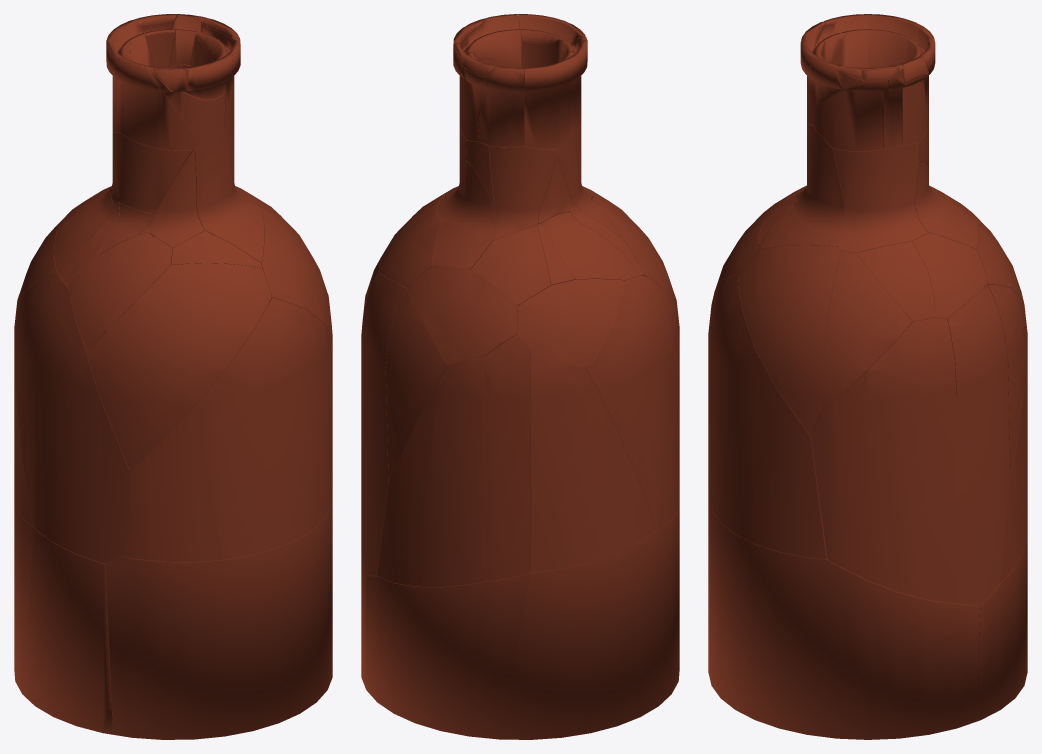
The model's file is 51_DestroyBottle.fbx.
The picture shows the model from 3 angles, left to right: view 1: azimuth 30°, elevation 25°; view 2: azimuth 150°, elevation 25°; view 3: azimuth 270°, elevation 25°; orthographic projection.
Parts seen in each view (by area): view 1: Bottle_cell.016, Bottle_cell.002, Bottle_cell.033, Bottle_cell.001, Bottle_cell.015, Bottle_cell.029, Bottle_cell.022, Bottle_cell.027, Bottle_cell, Bottle_cell.024, Bottle_cell.038, Bottle_cell.019 (+13 smaller); view 2: Bottle_cell.015, Bottle_cell.044, Bottle_cell.025, Bottle_cell.033, Bottle_cell.012, Bottle_cell.004, Bottle_cell.031, Bottle_cell.003, Bottle_cell.017, Bottle_cell.049, Bottle_cell.018, Bottle_cell.023 (+20 smaller); view 3: Bottle_cell.016, Bottle_cell.043, Bottle_cell.002, Bottle_cell.004, Bottle_cell, Bottle_cell.041, Bottle_cell.013, Bottle_cell.015, Bottle_cell.022, Bottle_cell.020, Bottle_cell.021, Bottle_cell.010 (+14 smaller).
Boxes of the visible parts, box(x1,y1,x2,y2) form: Bottle_cell.016: box(105, 501, 332, 739); Bottle_cell.002: box(121, 297, 332, 562); Bottle_cell.033: box(14, 271, 129, 563); Bottle_cell.001: box(86, 263, 271, 470); Bottle_cell.015: box(14, 500, 112, 734); Bottle_cell.029: box(69, 232, 172, 348); Bottle_cell.022: box(195, 128, 264, 262); Bottle_cell.027: box(115, 55, 201, 150); Bottle_cell: box(259, 205, 332, 339); Bottle_cell.024: box(113, 132, 192, 213); Bottle_cell.038: box(148, 149, 204, 247); Bottle_cell.019: box(54, 192, 113, 284); Bottle_cell.015: box(365, 502, 679, 739); Bottle_cell.044: box(529, 349, 655, 573); Bottle_cell.025: box(377, 355, 485, 587); Bottle_cell.033: box(584, 275, 679, 530); Bottle_cell.012: box(484, 334, 530, 581); Bottle_cell.004: box(361, 273, 406, 575); Bottle_cell.031: box(407, 266, 517, 365); Bottle_cell.003: box(517, 279, 625, 369); Bottle_cell.017: box(385, 289, 447, 482); Bottle_cell.049: box(489, 146, 557, 239); Bottle_cell.018: box(524, 55, 578, 149); Bottle_cell.023: box(470, 224, 550, 305); Bottle_cell.016: box(708, 497, 979, 739); Bottle_cell.043: box(811, 318, 956, 603); Bottle_cell.002: box(708, 275, 827, 559); Bottle_cell.004: box(947, 284, 1010, 606); Bottle_cell: box(738, 245, 841, 435); Bottle_cell.041: box(833, 142, 928, 252); Bottle_cell.013: box(822, 251, 912, 411); Bottle_cell.015: box(975, 529, 1027, 721); Bottle_cell.022: box(761, 122, 845, 250); Bottle_cell.020: box(813, 80, 888, 151); Bottle_cell.021: box(911, 233, 987, 318); Bottle_cell.010: box(861, 241, 934, 321).
Bounding box in the file's own units: 200 × 436 × 200.
